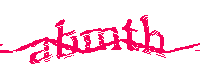a: (30, 36, 53, 65)
b: (56, 20, 77, 58)
h: (140, 13, 166, 55)
m: (81, 26, 122, 53)
t: (122, 17, 140, 53)
